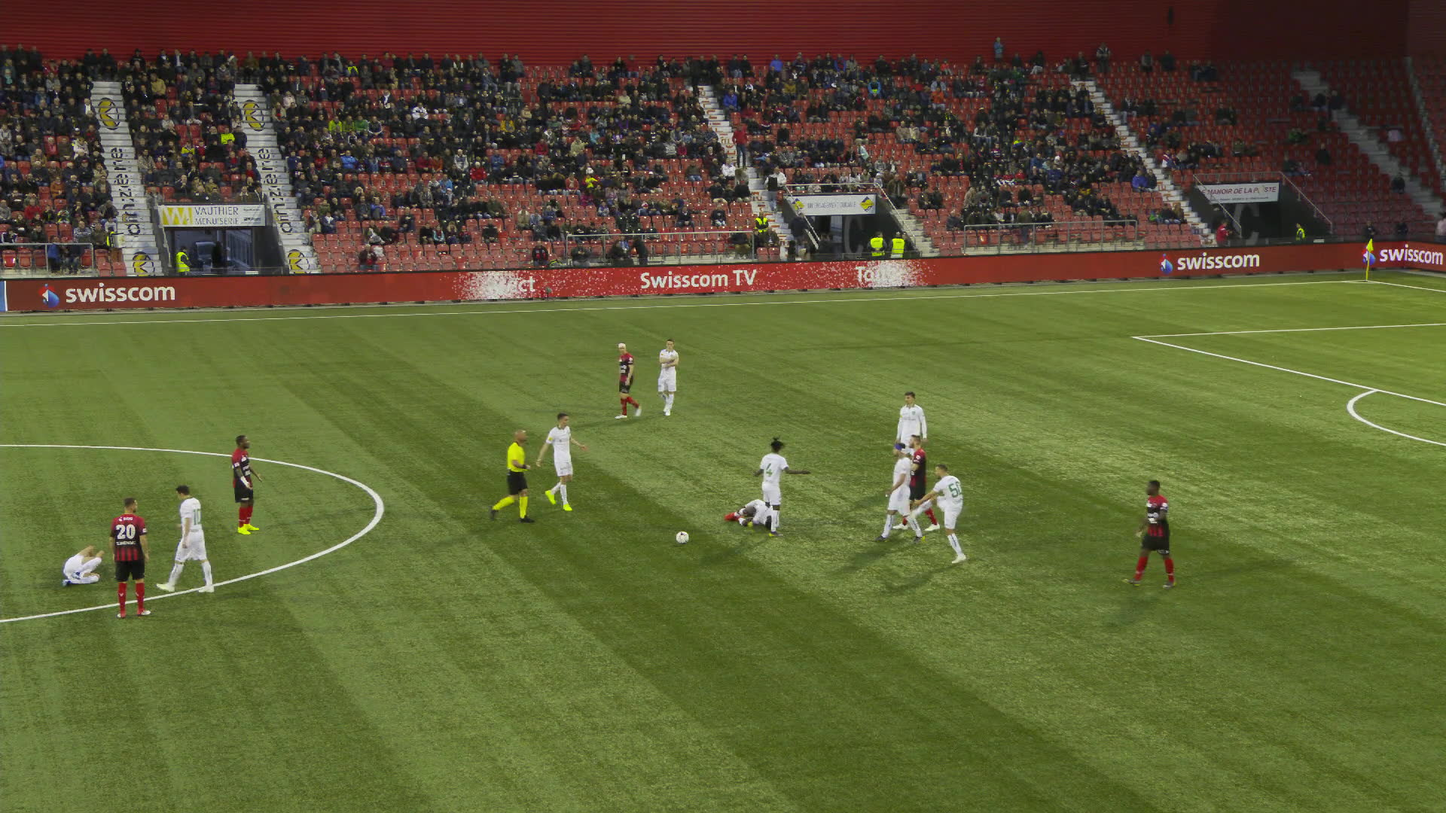ball: (676, 532, 688, 542)
player: (155, 484, 214, 592), (749, 435, 810, 537), (905, 462, 966, 562), (1121, 480, 1176, 588), (108, 496, 151, 619), (875, 442, 923, 544), (538, 412, 587, 510), (891, 432, 938, 531), (892, 391, 927, 486), (231, 434, 264, 534), (615, 343, 641, 418), (656, 340, 681, 416), (724, 499, 780, 532), (59, 546, 104, 586)
referee: (489, 428, 535, 523)
